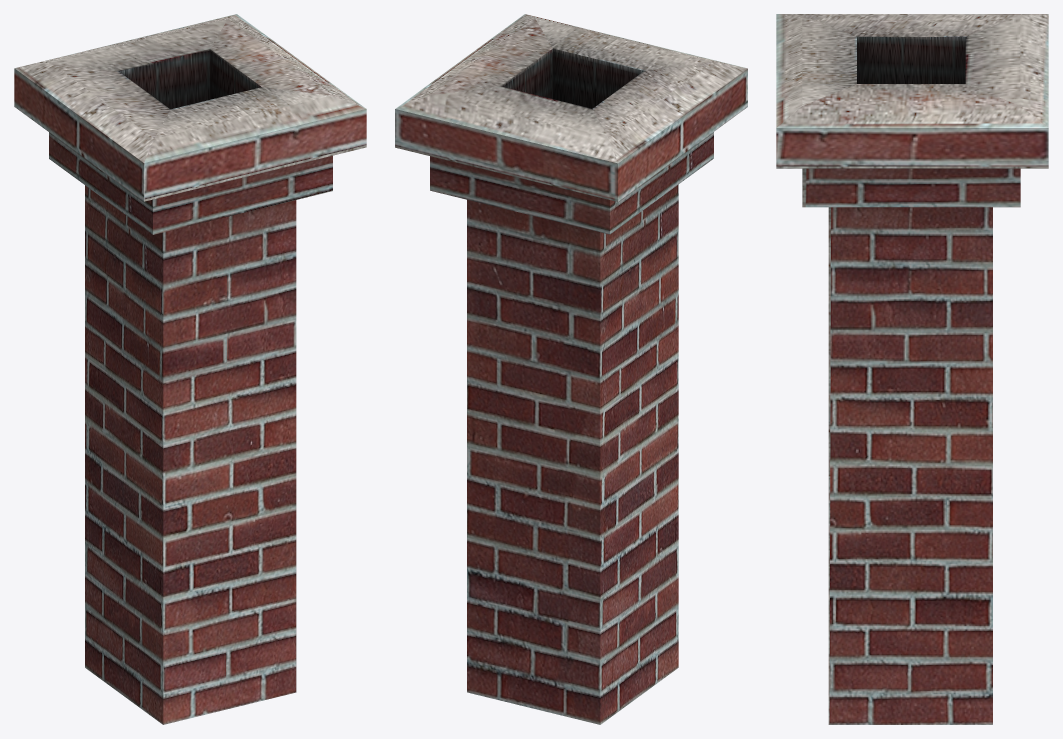
The model's file is chimney1.fbx.
3 renders of one model, left to right at view 1: azimuth 30°, elevation 25°; view 2: azimuth 150°, elevation 25°; view 3: azimuth 270°, elevation 25°, orthographic. The views are drawn at different scales.
Visible parts, largest first — view 1: chimneyMesh; view 2: chimneyMesh; view 3: chimneyMesh.
Part boxes in pixels (x1=…): chimneyMesh: x1=14, y1=14, x2=366, y2=724; chimneyMesh: x1=395, y1=14, x2=747, y2=724; chimneyMesh: x1=776, y1=14, x2=1048, y2=724.
Bounding box in the file's own units: 98.63 × 254 × 99.47.
